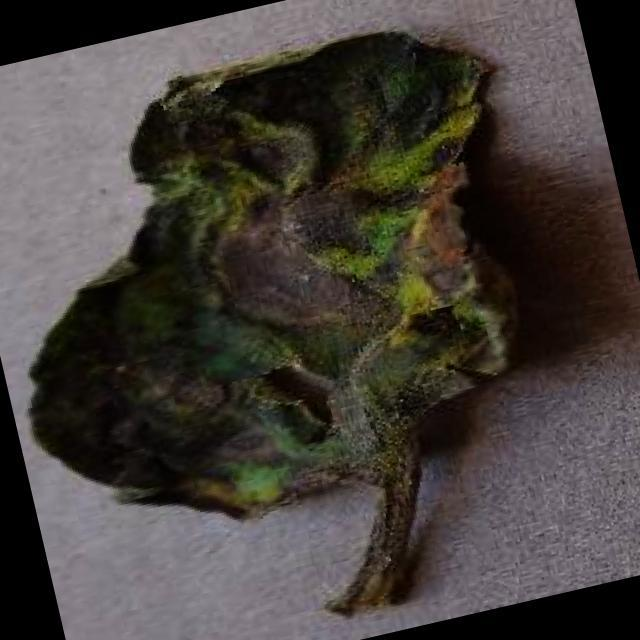Tomato Early blight leaf: (0, 0, 581, 573)
